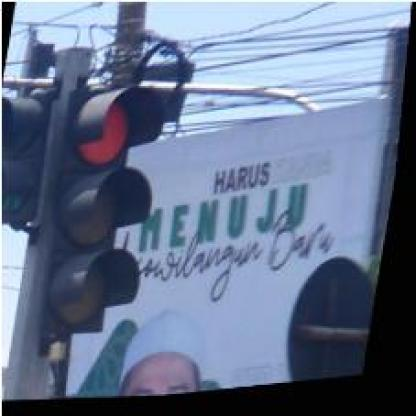red: (35, 79, 174, 342)
